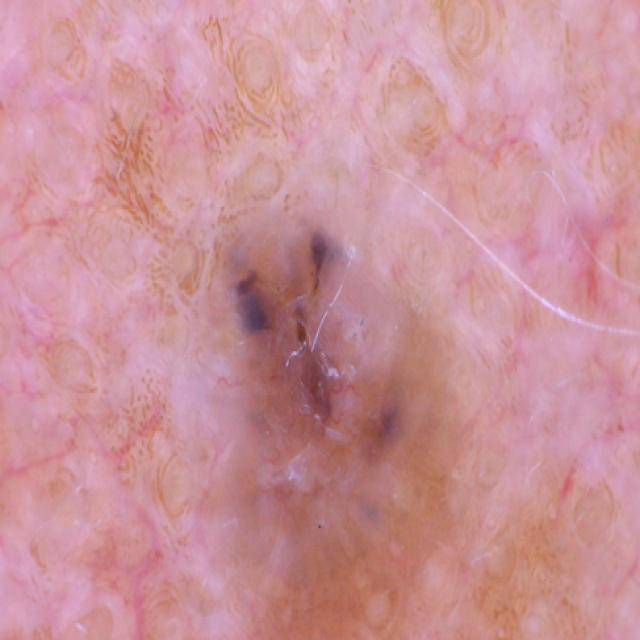Carcinoma: (198, 220, 475, 573)
